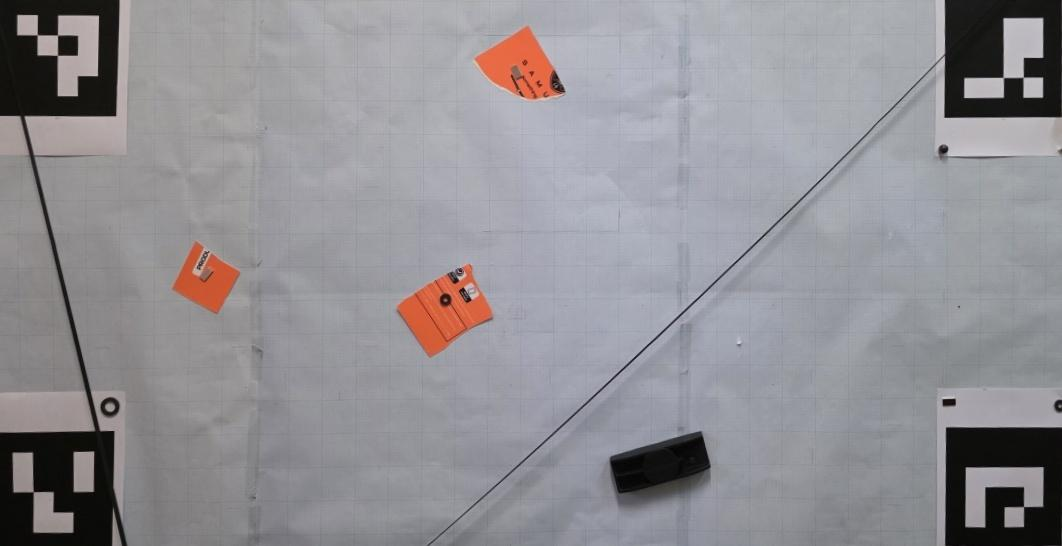obstacle: (396, 263, 494, 357), (473, 24, 566, 103), (609, 430, 714, 494), (171, 240, 241, 315)
